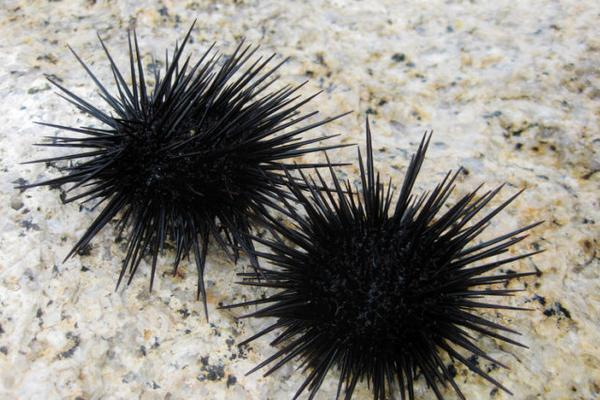urchin: (18, 20, 354, 284), (247, 130, 536, 395)
